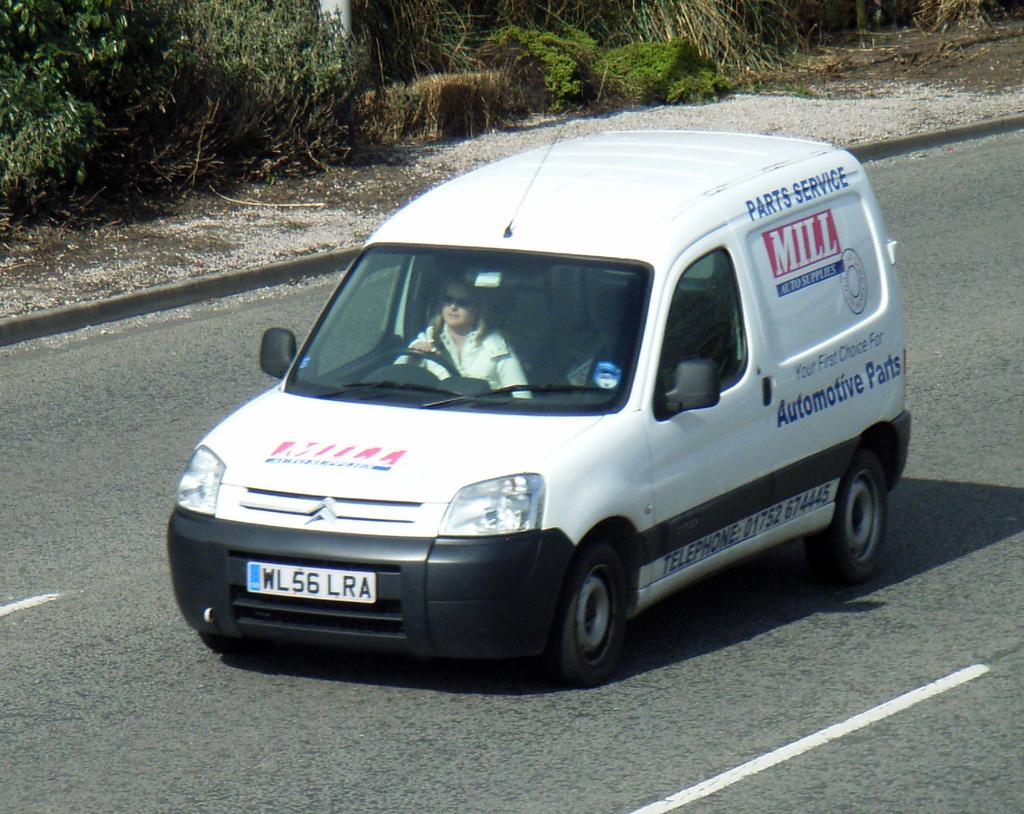vehicle: (166, 131, 911, 689)
